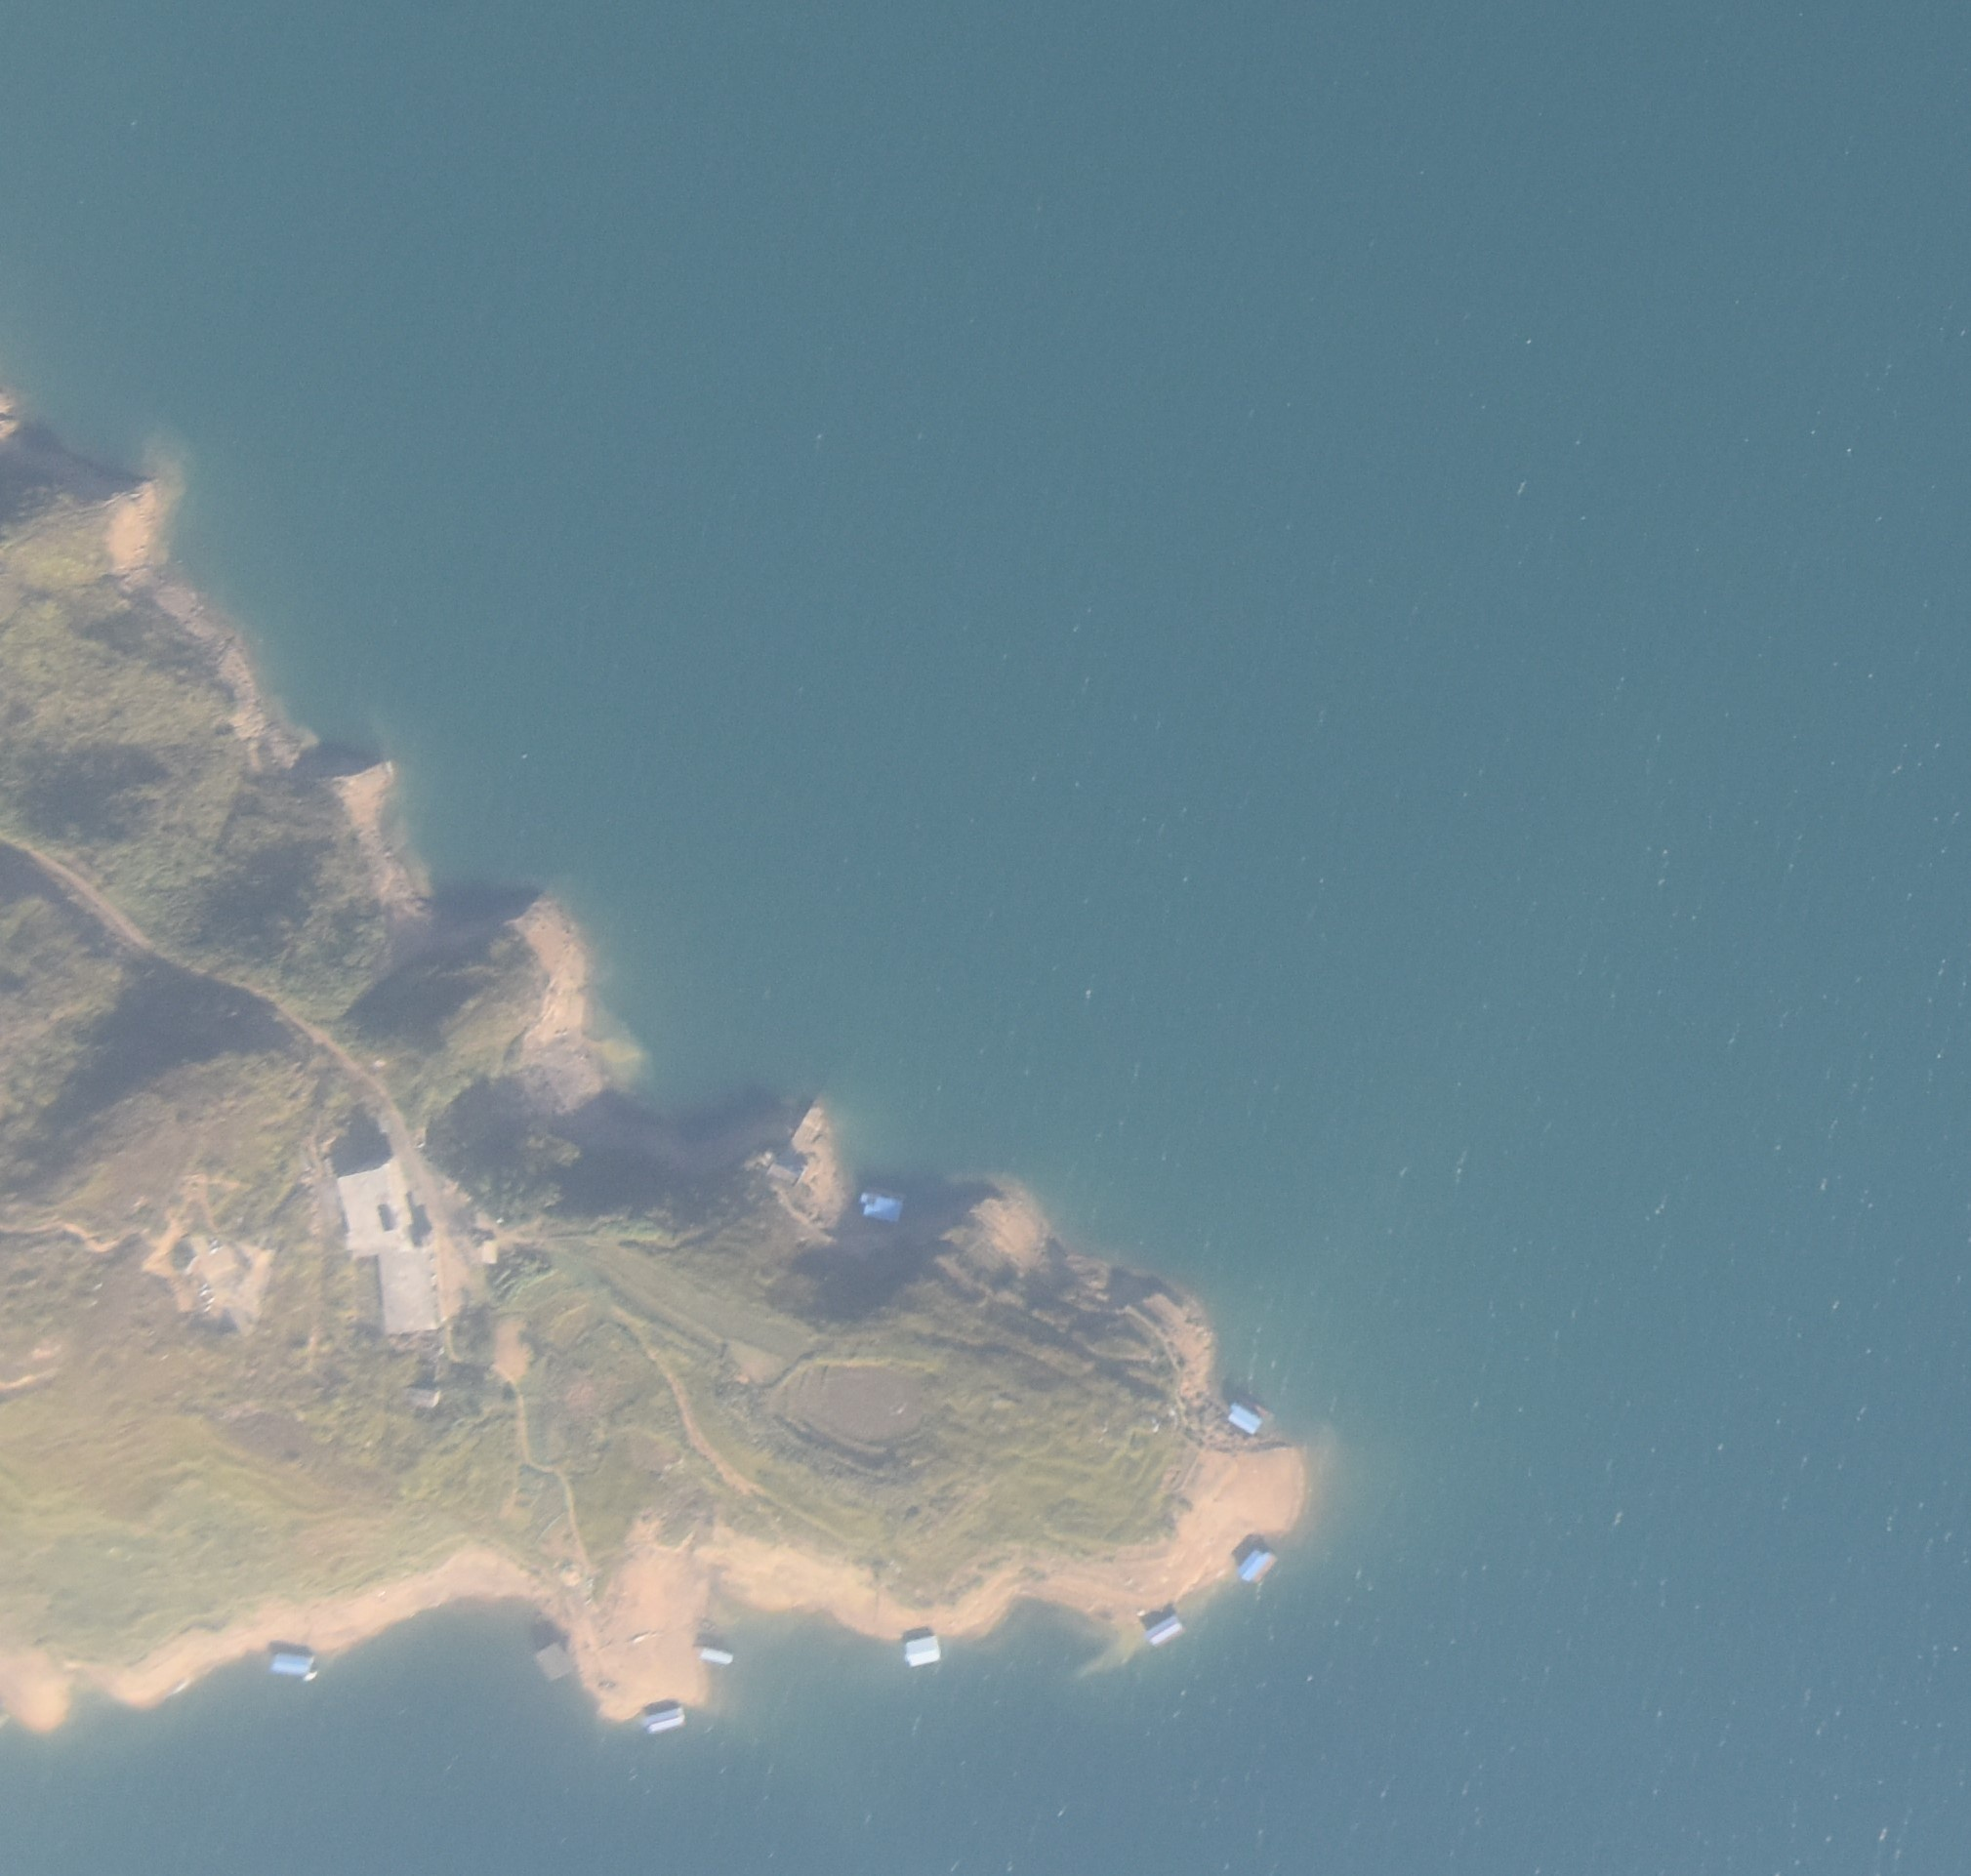building: (337, 1162, 406, 1260), (180, 1227, 253, 1312), (378, 1246, 439, 1333), (783, 1100, 830, 1164), (406, 1355, 441, 1407), (766, 1162, 801, 1186), (479, 1241, 497, 1264)
prefabricated-house: (533, 1643, 574, 1685), (644, 1703, 688, 1736), (266, 1652, 319, 1678), (860, 1192, 903, 1223), (904, 1633, 941, 1669), (1237, 1546, 1272, 1583), (1145, 1614, 1186, 1645), (1228, 1403, 1262, 1434)
ship: (693, 1613, 733, 1644), (692, 1644, 734, 1670)
